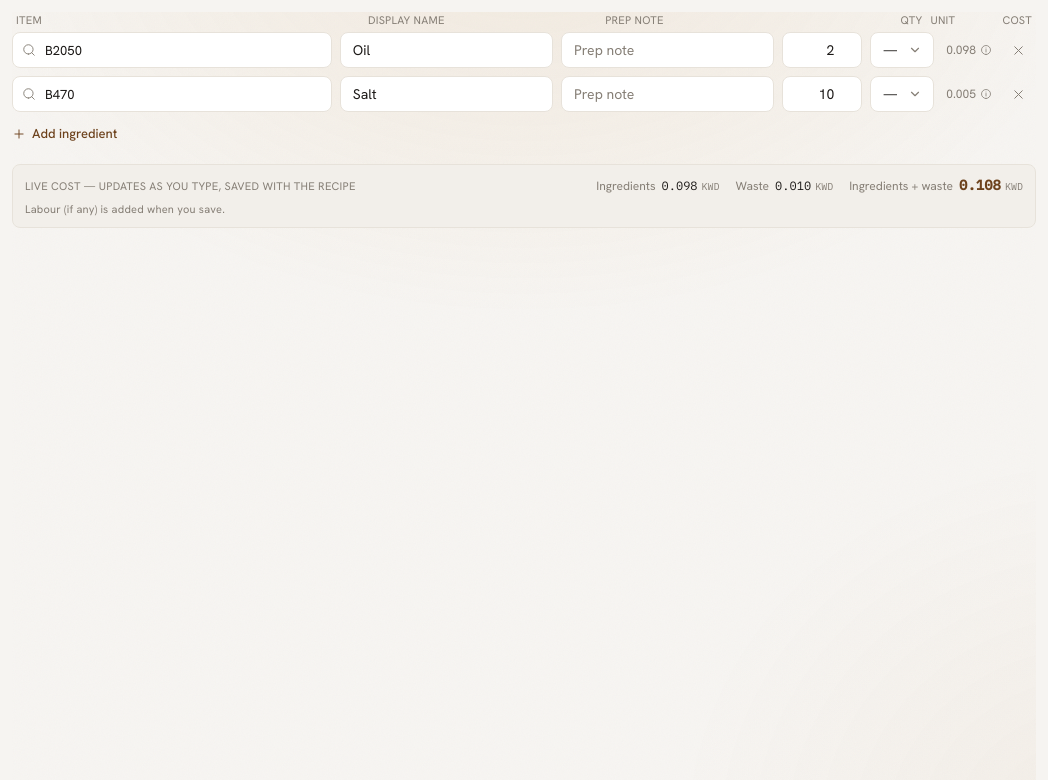
Scenario: IngredientEditor live cost › expands a row to the working — conversion, sum and stock deduction
Step 1. Click the button named "Show how this cost" → (969, 50), box [942,40,996,60]
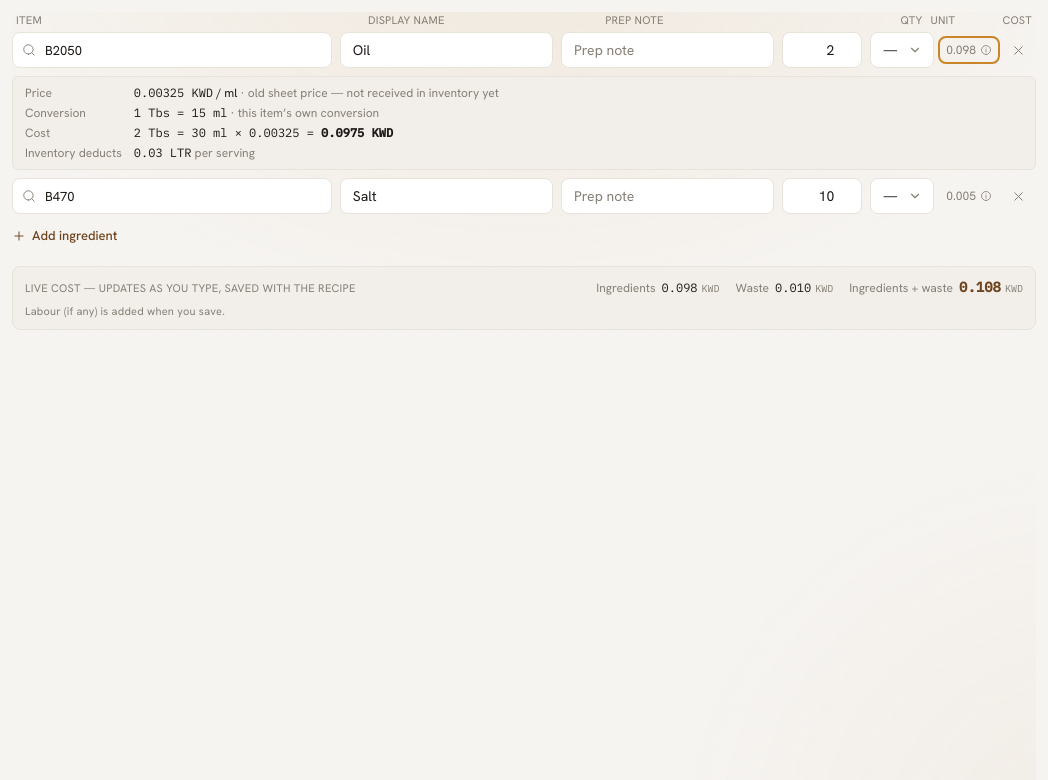
expect the text "1 Tbs = 15 ml" is shown: met, box [134,105,227,120]
expect the text "2 Tbs = 30 ml × 0.00325 = 0.0975 KWD" is shown: met, box [134,125,393,140]
expect the text "0.03 LTR" is shown: met, box [134,145,191,160]
Step 2. Click the button named "Show how this cost" → (969, 196), box [942,186,996,206]
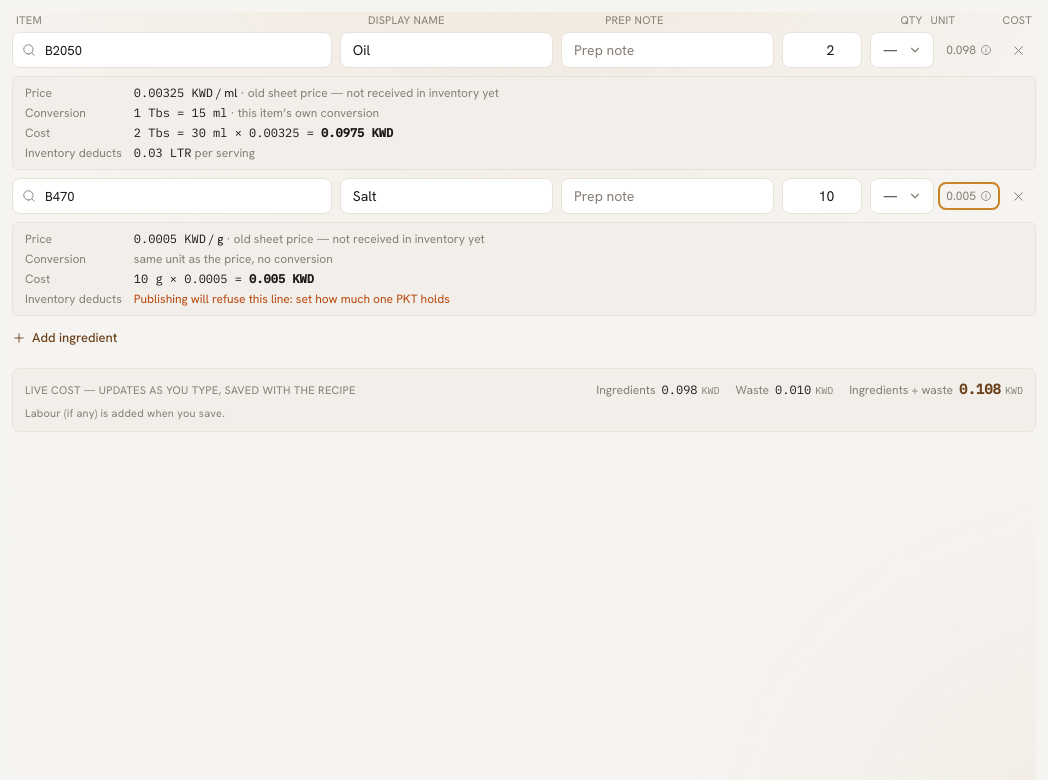
expect the text "Publishing will refuse this line: set how much one PKT holds" is shown: met, box [134,291,450,307]
